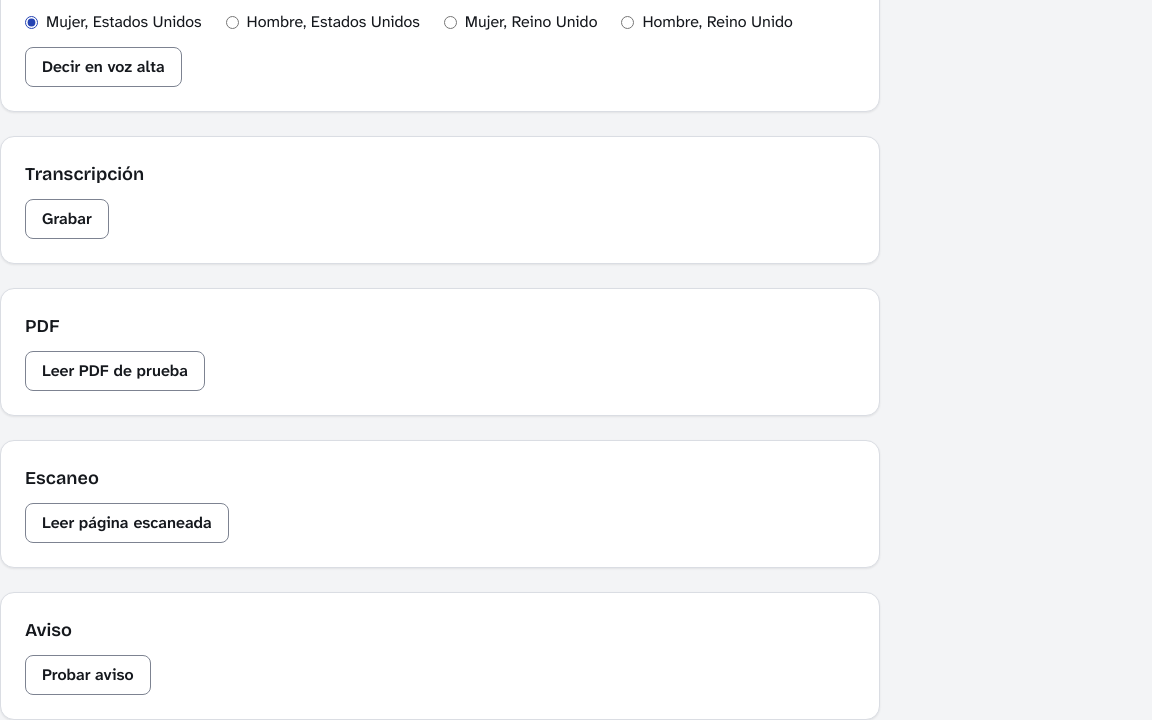
Laboratorio › [CA-028] «Leer PDF de prueba» muestra el texto de la página 1 y la frase resaltada sobre la imagen de la página (simulado)
(page scrolled)
What coordinates should you click on to do the following:
click the button "Leer PDF de prueba"
I would click on:
 (115, 371)
Its box is [25,351,205,391].
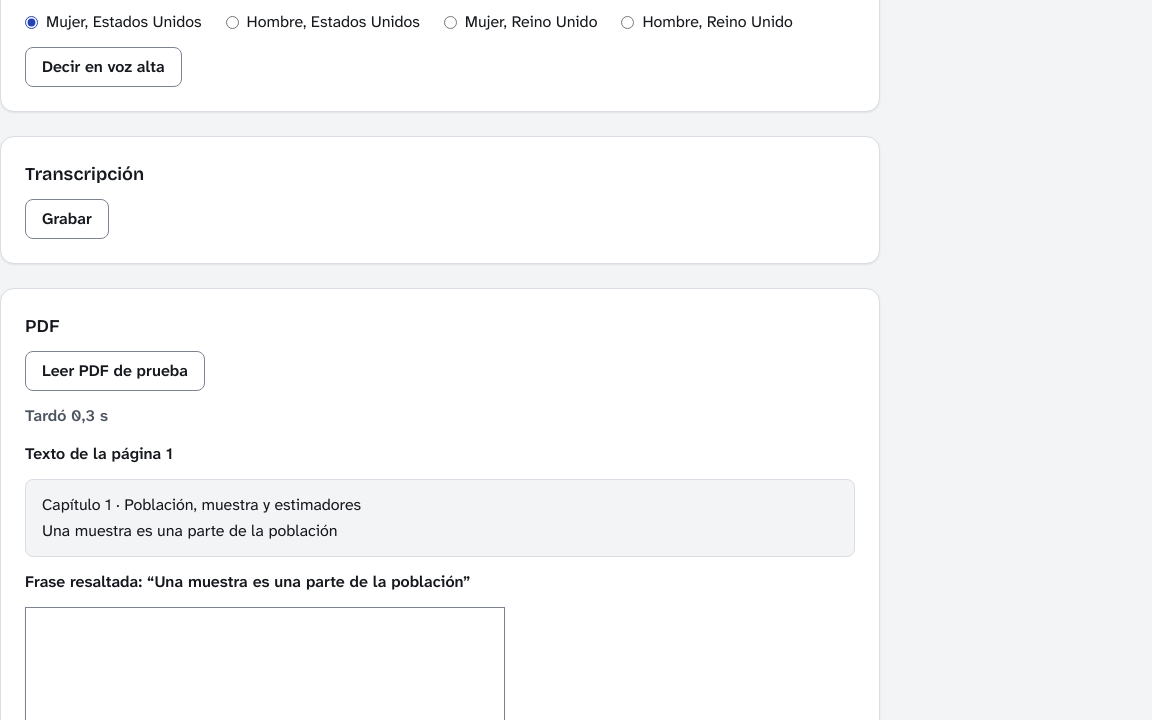
Check: the text "Capítulo 1 · Población, muestra y estimadores" is shown, box [42,494,361,541]
Check: the text "Frase resaltada: “Una muestra es una parte de la población”" is shown, box [25,571,470,592]
Check: the text "Tardó 0,3 s" is shown, box [25,405,108,426]
